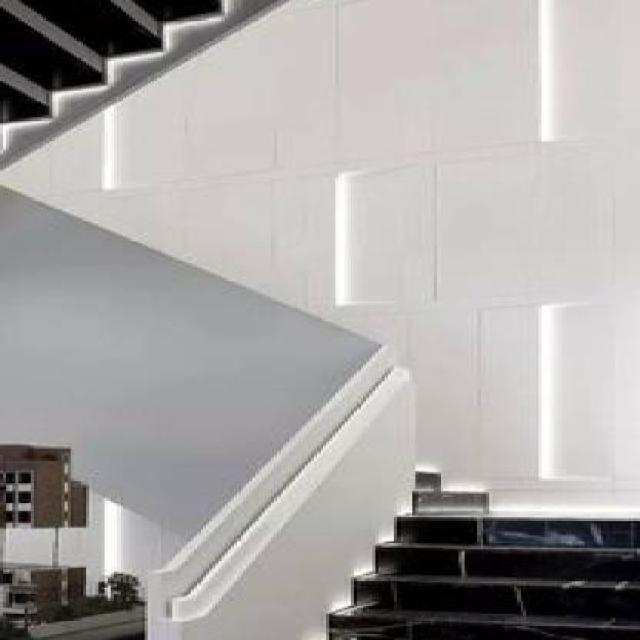stair: (126, 382, 637, 638)
